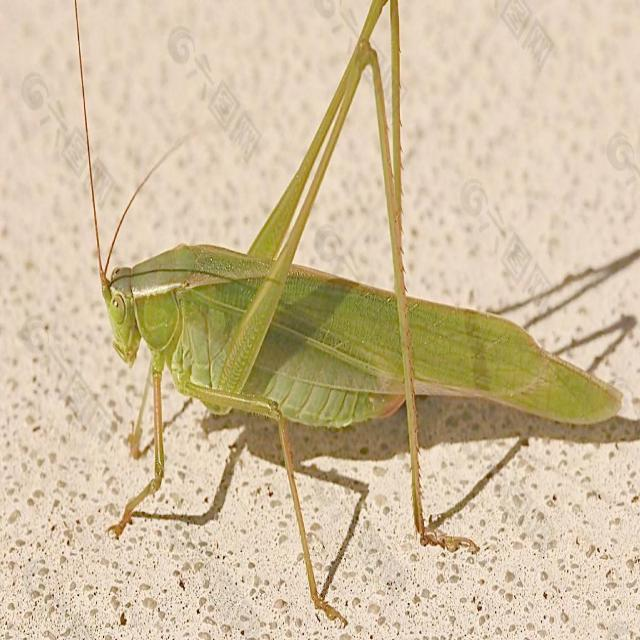ZhaMeng: (82, 74, 622, 514)
